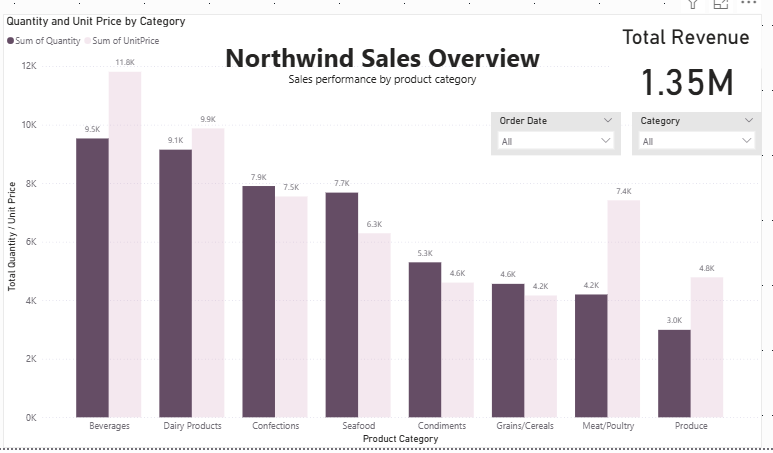

Layout of this report page (visuals, bound fields, positions):
{"tool":"powerbi","page":{"name":"Sales Overview","canvas":[1280,720],"ordinal":0},"visuals":[{"type":"clusteredColumnChart","title":"Quantity and Unit Price by Category","fields":{"Category":["northwind categories.CategoryName"],"Y":["Sum(northwind order details.Quantity)","Sum(northwind order details.UnitPrice)"]},"box":[80,80,1120,640],"z":0},{"type":"textbox","box":[400,112,480,64],"z":1000},{"type":"card","title":"Total Revenue","fields":{"Values":["northwind order details.Revenue"]},"box":[992,128,192,96],"z":2000},{"type":"textbox","title":"Total Revenue","box":[976,96,224,64],"z":3000},{"type":"textbox","box":[496,160,288,32],"z":4000},{"type":"slicer","title":"Select Order Date","fields":{"Values":["northwind orders.OrderDate"]},"box":[800,224,192,64],"z":5000},{"type":"slicer","fields":{"Values":["northwind categories.CategoryName"]},"box":[1008,224,192,64],"z":6000}]}

Visuals, with their boxes on the page's 1280x720 design canvas (x1, y1, x2, y2). These are canvas units, not pixel positions in the 773x453 screenshot, which may show the page scaled, cropped or inside an application window:
"Quantity and Unit Price by Category" clusteredColumnChart: (80,80,1200,720)
textbox: (400,112,880,176)
"Total Revenue" card: (992,128,1184,224)
"Total Revenue" textbox: (976,96,1200,160)
textbox: (496,160,784,192)
"Select Order Date" slicer: (800,224,992,288)
slicer - northwind categories.CategoryName: (1008,224,1200,288)
